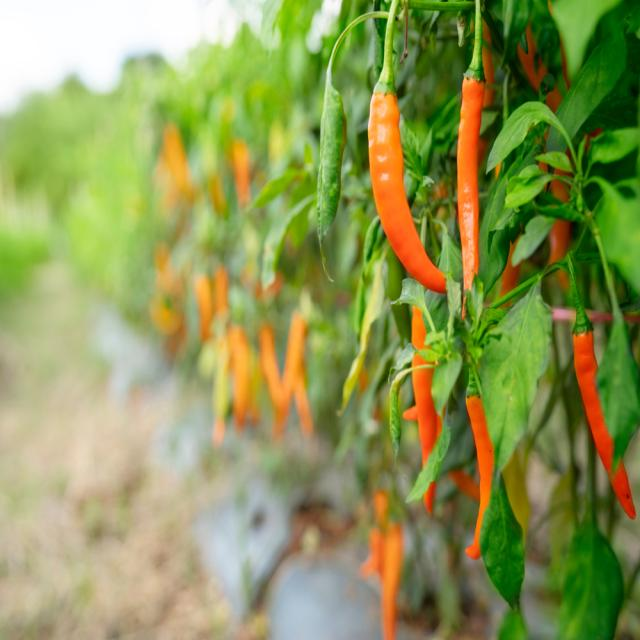Ripe: (368, 92, 446, 291), (573, 331, 634, 517), (458, 77, 485, 293), (411, 308, 438, 518), (466, 395, 494, 558)
